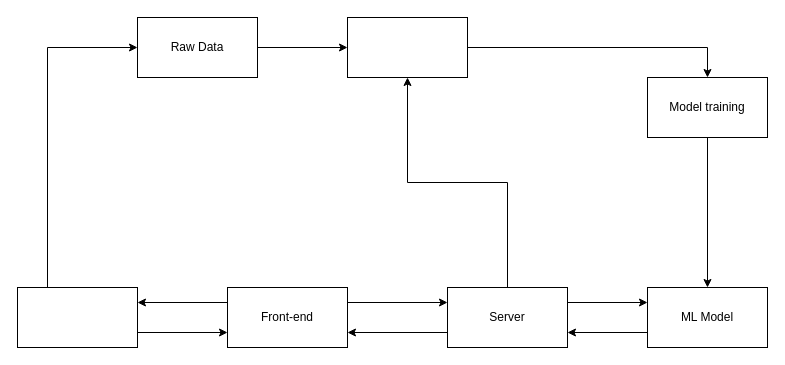
Some shapes in this 785 by 365 pixel diagram are drawn without their labels. Each missing label, with the centre of its shape:
"Client" belongs at point 77,317.
"Database" belongs at point 407,47.
